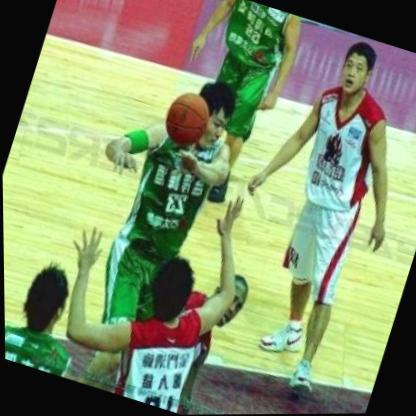basketball: (155, 85, 217, 155)
